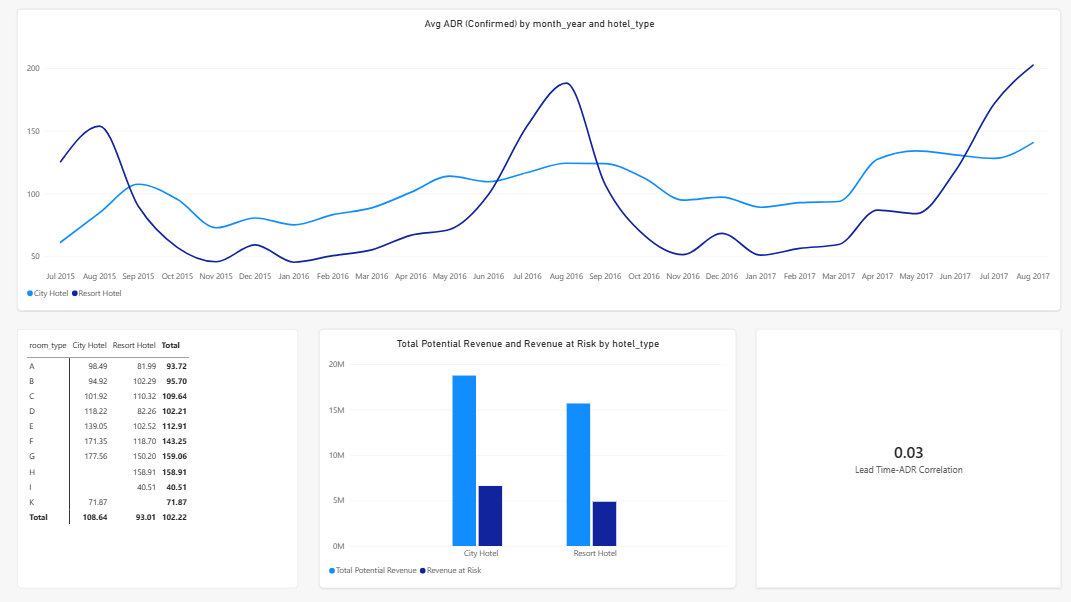

This screenshot's page, from the dashboard's own definition file:
{"tool":"powerbi","page":{"name":"Revenue & Pricing","canvas":[1920,1080],"ordinal":2},"visuals":[{"type":"lineChart","fields":{"Category":["dim_date.month_year"],"Series":["dim_hotel.hotel_type"],"Y":["Measures (2).Avg ADR (Confirmed)"]},"box":[33.9,19.6,1864.3,539.3],"z":0},{"type":"clusteredColumnChart","fields":{"Category":["dim_hotel.hotel_type"],"Y":["Measures (2).Total Potential Revenue","Measures (2).Revenue at Risk"]},"box":[572.3,591.1,744.6,462.5],"z":2},{"type":"cardVisual","fields":{"Data":["Measures (2).Lead Time-ADR Correlation"]},"box":[1353.6,591.1,544.6,462.5],"z":3},{"type":"pivotTable","fields":{"Columns":["dim_hotel.hotel_type"],"Rows":["dim_room_type.room_type"],"Values":["Measures (2).Avg ADR (Confirmed)"]},"box":[33.9,591.1,501.8,462.5],"z":4}]}

Visuals, with their boxes in screenshot pixels (x1, y1, x2, y2), scaled from the page's 1920x1080 canvas onto the 1071x602 screenshot:
lineChart - dim_date.month_year x dim_hotel.hotel_type: [left=19, top=11, right=1059, bottom=312]
clusteredColumnChart - dim_hotel.hotel_type x Measures (2).Total Potential Revenue: [left=319, top=329, right=735, bottom=587]
cardVisual - Measures (2).Lead Time-ADR Correlation: [left=755, top=329, right=1059, bottom=587]
pivotTable - dim_hotel.hotel_type x dim_room_type.room_type: [left=19, top=329, right=299, bottom=587]
